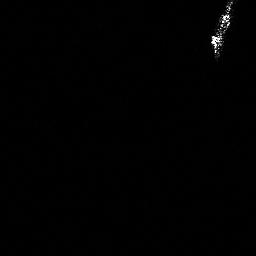ship: (207, 1, 235, 62)
